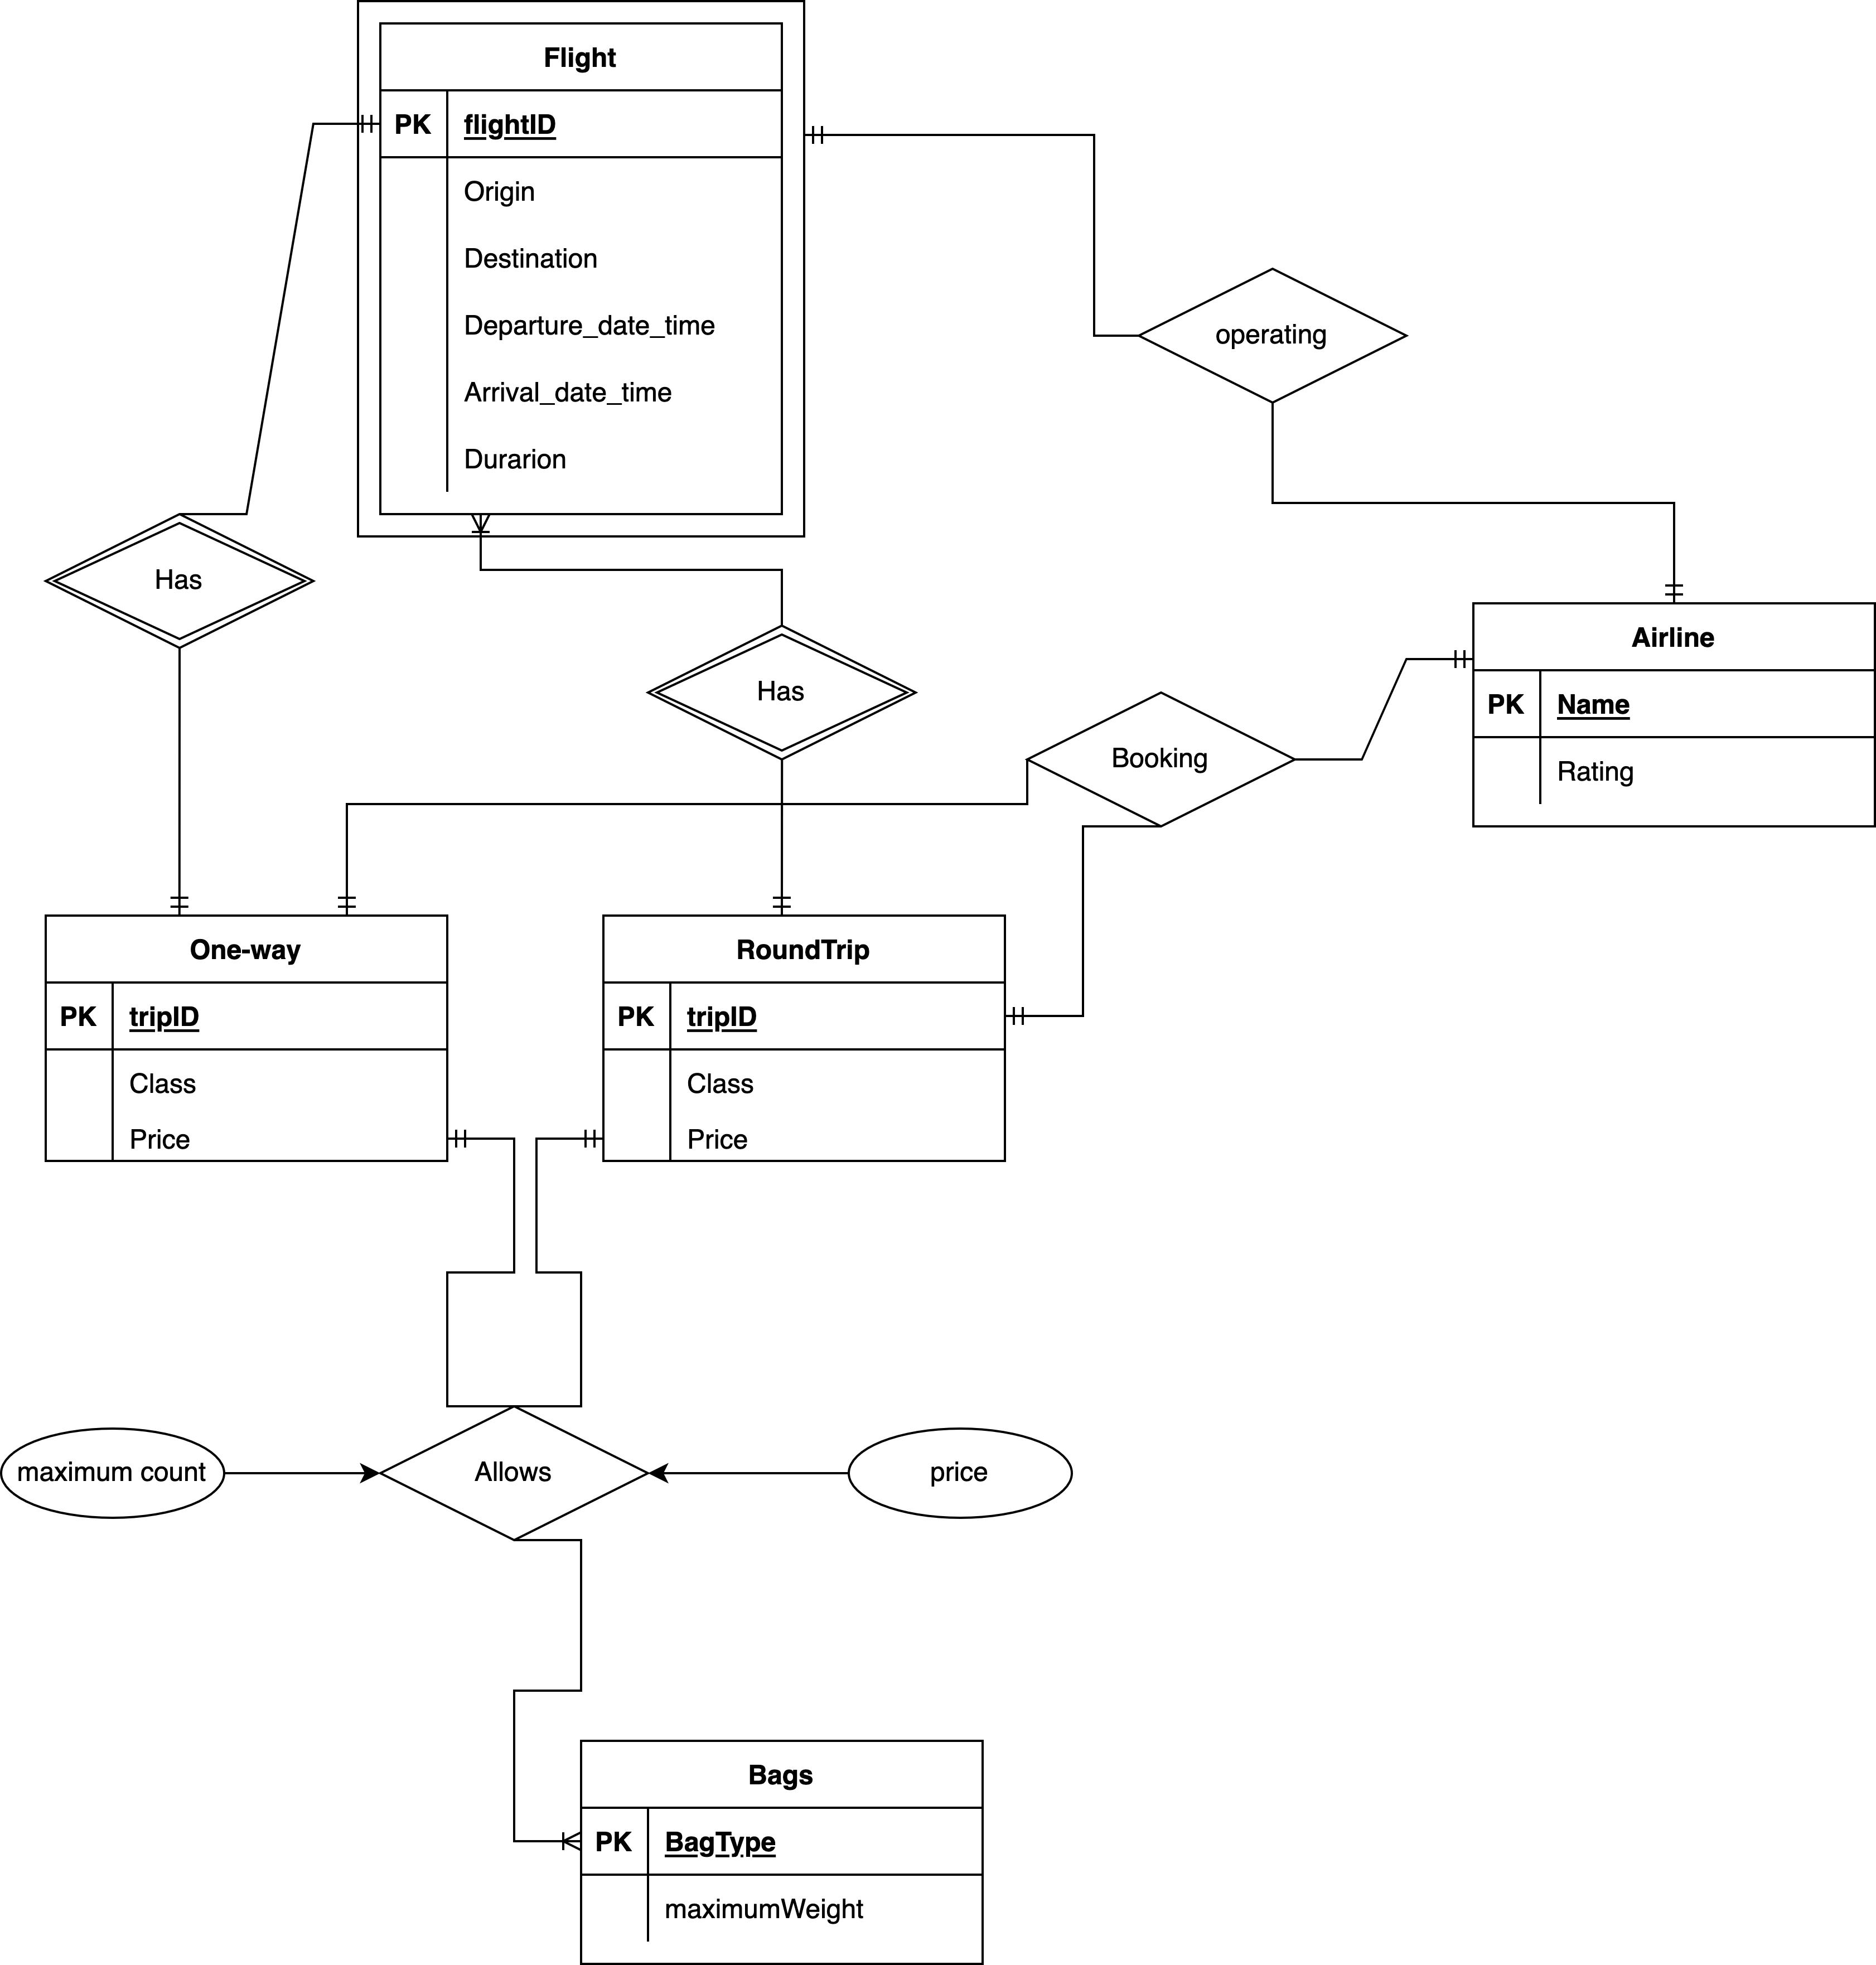attribute: (0, 1428, 226, 1530), (846, 1433, 1079, 1516)
entity: (37, 905, 456, 1168), (598, 907, 1013, 1167), (1464, 597, 1876, 837), (577, 1733, 990, 1965)
relationship: (377, 1407, 651, 1542), (1137, 267, 1402, 405), (1023, 700, 1292, 830)
weakentity: (347, 0, 804, 546)
weakrelationship: (42, 514, 316, 654), (646, 633, 918, 763)
